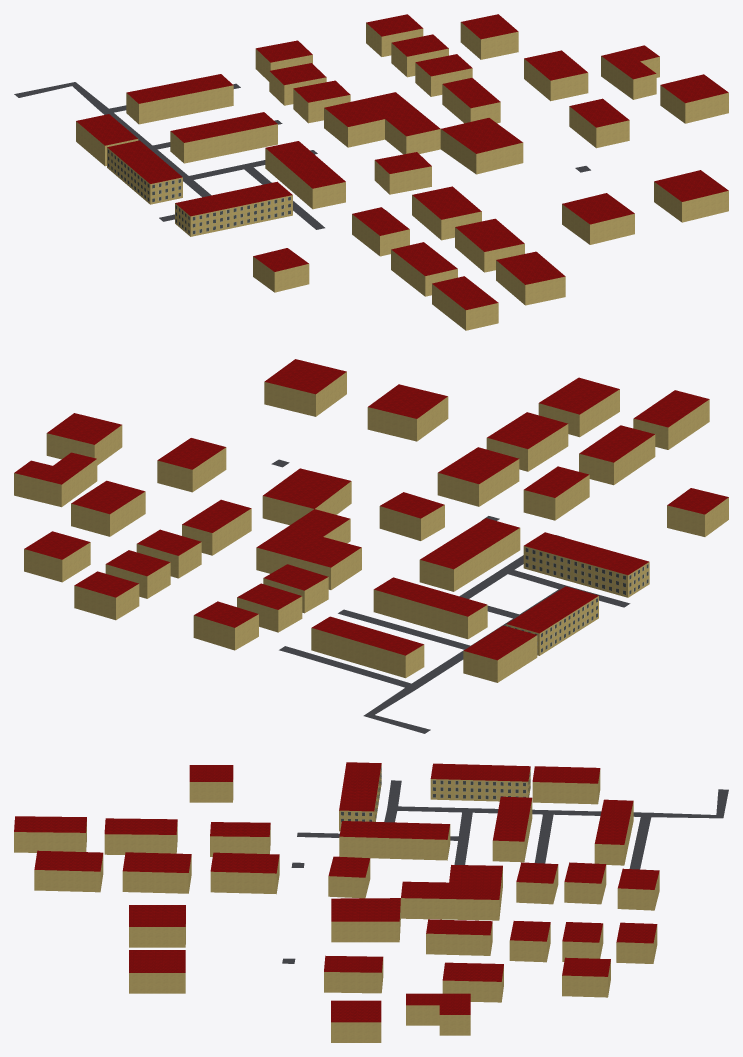
Rendered from district_0_1.glb.
3 renders of one model, top to bottom at view 1: azimuth 30°, elevation 25°; view 2: azimuth 150°, elevation 25°; view 3: azimuth 270°, elevation 25°, orthographic. The views are drawn at different scales.
Visible parts, largest first — view 1: Building w626200247, Building w307859576, Building w307859571, Building w307859570, Building w307859572, Building w44036252, Building w307859575, Building w44036211, Building w44036210, Building w626199629, Building w626199625, Building w625367575 (+19 smaller); view 2: Building w626200247, Building w307859576, Building w307859572, Building w307859571, Building w307859570, Building w44036211, Building w44036252, Building w44036214, Building w44036210, Building w307859575, Building w44036262, Building w626199629 (+21 smaller); view 3: Building w626200247, Building w307859572, Building w307859575, Building w44036252, Building w626199628, Building w44036214, Building w626199629, Building w626199625, Building w44036182, Building w307859574, Building w44036211, Building w44036262 (+22 smaller).
Boxes of the visible parts, x1=… form: Building w626200247: x1=324, y1=92, x2=440, y2=154; Building w307859576: x1=175, y1=181, x2=292, y2=236; Building w307859571: x1=170, y1=112, x2=277, y2=163; Building w307859570: x1=126, y1=74, x2=233, y2=124; Building w307859572: x1=265, y1=141, x2=345, y2=209; Building w44036252: x1=440, y1=118, x2=523, y2=174; Building w307859575: x1=107, y1=140, x2=182, y2=204; Building w44036211: x1=654, y1=170, x2=728, y2=222; Building w44036210: x1=562, y1=193, x2=634, y2=244; Building w626199629: x1=496, y1=251, x2=565, y2=305; Building w626199625: x1=432, y1=276, x2=498, y2=330; Building w625367575: x1=660, y1=74, x2=728, y2=123; Building w626200247: x1=256, y1=509, x2=361, y2=589; Building w307859576: x1=523, y1=532, x2=649, y2=597; Building w307859572: x1=419, y1=518, x2=520, y2=591; Building w307859571: x1=373, y1=577, x2=487, y2=639; Building w307859570: x1=311, y1=616, x2=424, y2=678; Building w44036211: x1=264, y1=359, x2=346, y2=416; Building w44036252: x1=262, y1=468, x2=351, y2=525; Building w44036214: x1=437, y1=447, x2=519, y2=506; Building w44036210: x1=367, y1=384, x2=448, y2=441; Building w307859575: x1=506, y1=586, x2=598, y2=655; Building w44036262: x1=14, y1=452, x2=97, y2=507; Building w626199629: x1=538, y1=377, x2=619, y2=437; Building w626200247: x1=401, y1=865, x2=502, y2=920; Building w307859572: x1=339, y1=821, x2=450, y2=860; Building w307859575: x1=430, y1=763, x2=530, y2=801; Building w44036252: x1=331, y1=898, x2=400, y2=942; Building w626199628: x1=122, y1=852, x2=191, y2=893; Building w44036214: x1=210, y1=852, x2=279, y2=894; Building w626199629: x1=34, y1=850, x2=103, y2=892; Building w626199625: x1=14, y1=816, x2=86, y2=852; Building w44036182: x1=104, y1=818, x2=177, y2=854; Building w307859574: x1=532, y1=766, x2=600, y2=804; Building w44036211: x1=129, y1=950, x2=185, y2=993; Building w44036262: x1=406, y1=993, x2=470, y2=1035.
Size of the model in its own units: 205 by 7.5 by 235.
Materials: 4 (4 with a texture image).
